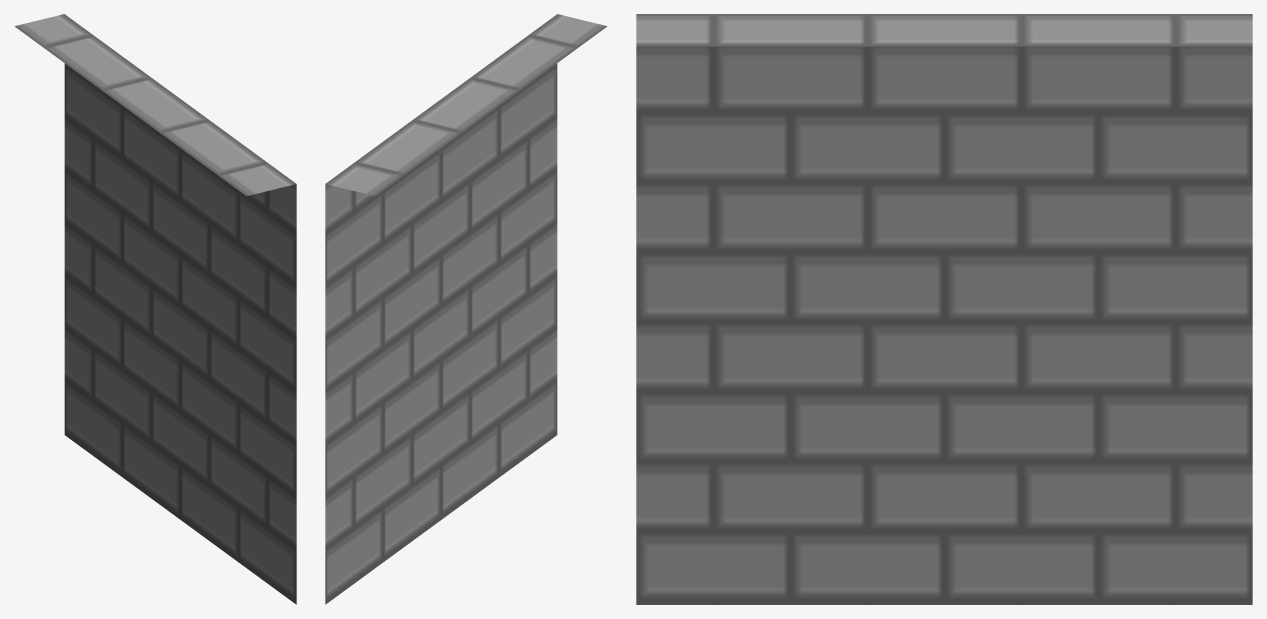
Rendered from BrickWaterWall.glb.
The picture shows the model from 3 angles, left to right: view 1: azimuth 30°, elevation 25°; view 2: azimuth 150°, elevation 25°; view 3: azimuth 270°, elevation 25°; orthographic projection. The views are drawn at different scales.
Visible parts, largest first — view 1: Cube; view 2: Cube; view 3: Cube.
Part boxes in pixels (bbox=[...]): Cube: bbox=[14, 14, 296, 604]; Cube: bbox=[325, 14, 607, 604]; Cube: bbox=[636, 14, 1252, 604].
Size of the model in its own units: 0.125 by 1 by 1.
1 material, 1 textured.
